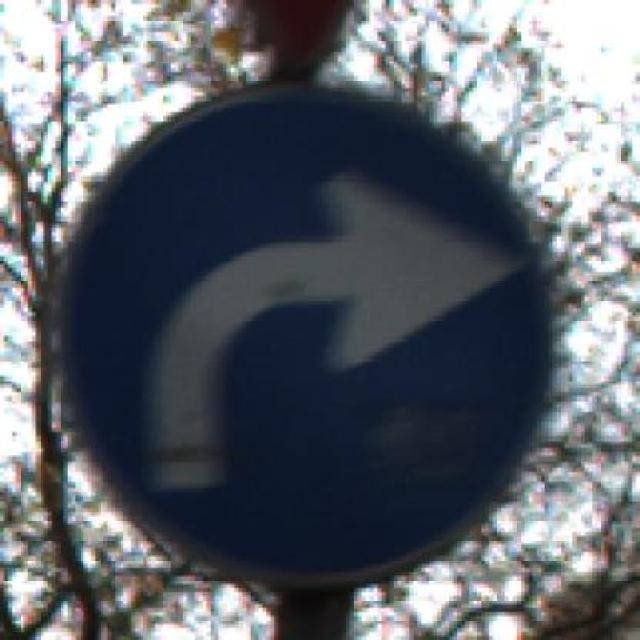Turn right ahead: (36, 69, 598, 586)
